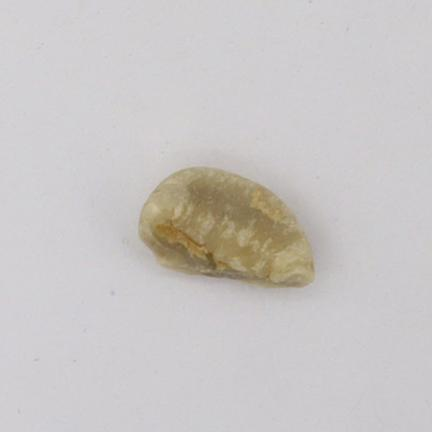shell: (139, 167, 313, 286)
